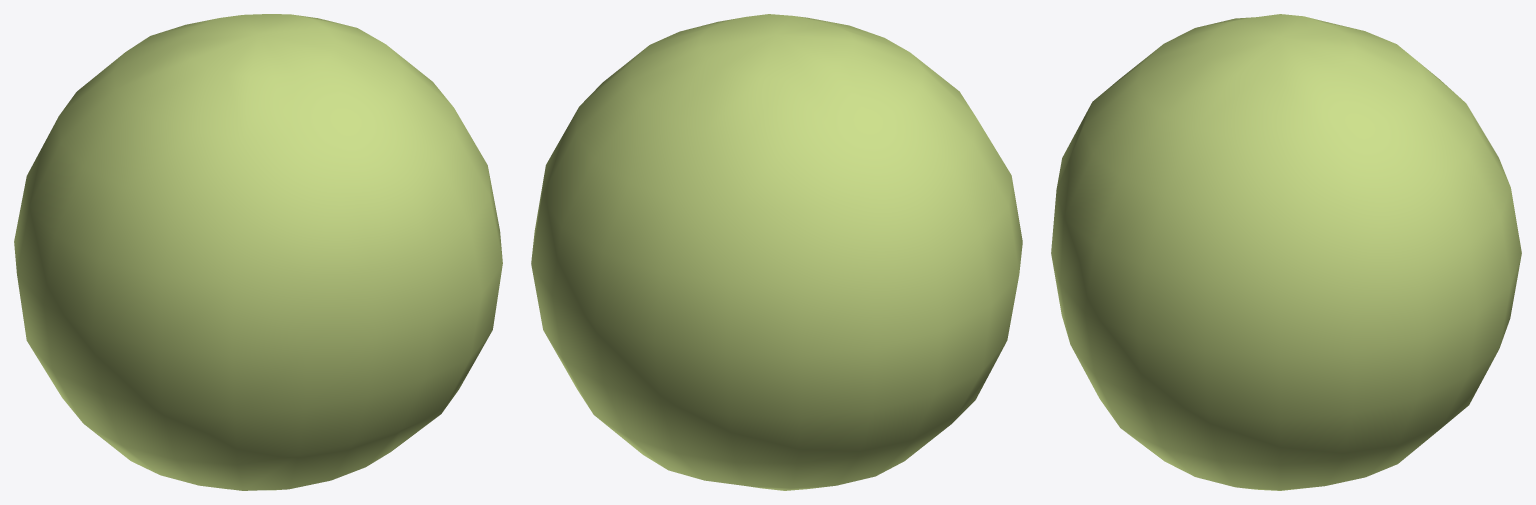
File: pea.fbx
3 renders of one model, left to right at view 1: azimuth 30°, elevation 25°; view 2: azimuth 150°, elevation 25°; view 3: azimuth 270°, elevation 25°, orthographic.
Parts seen in each view (by area): view 1: pea; view 2: pea; view 3: pea.
Part boxes in pixels (bbox=[...]): pea: bbox=[14, 14, 502, 490]; pea: bbox=[531, 14, 1022, 490]; pea: bbox=[1051, 14, 1521, 490].
Size of the model in its own units: 11.06 by 10.73 by 10.63.
